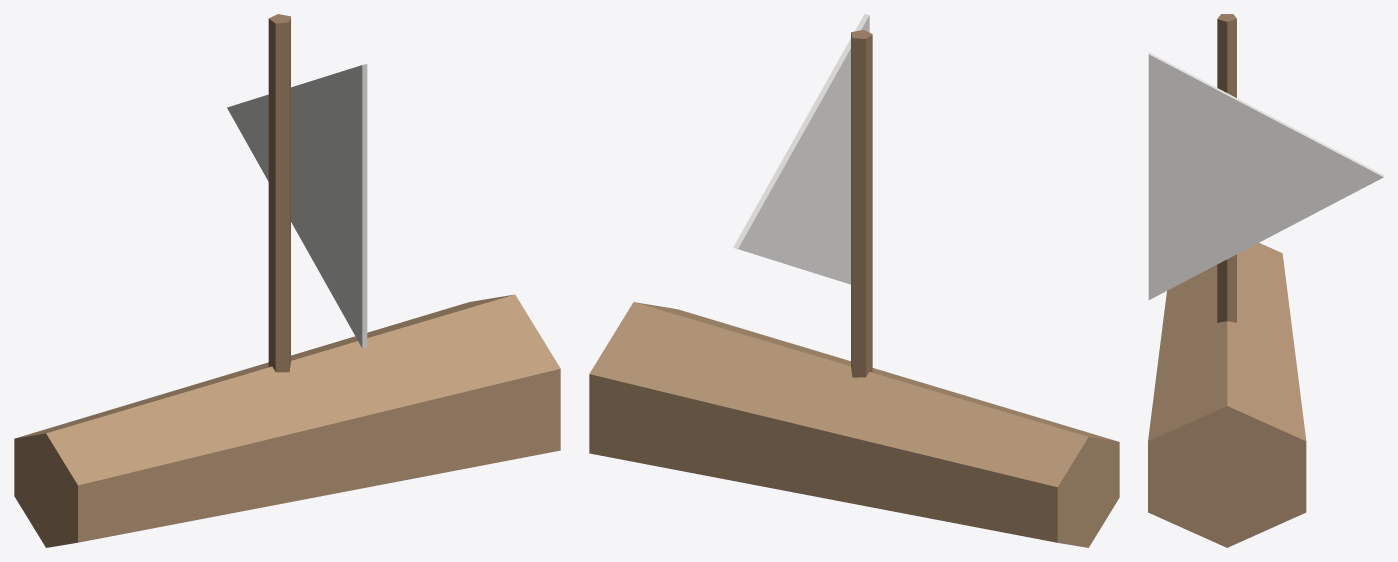
The model's file is barco.glb.
3 views of the same model, side by side, from view 1: azimuth 30°, elevation 25°; view 2: azimuth 150°, elevation 25°; view 3: azimuth 270°, elevation 25° (orthographic). The views are drawn at different scales.
Visible parts, largest first — view 1: barco; view 2: barco; view 3: barco.
Boxes of the visible parts, <box> form: barco: <box>14,14,560,547</box>; barco: <box>589,14,1119,547</box>; barco: <box>1148,14,1383,547</box>.
Bounding box in the file's own units: 1.8 × 1.82 × 0.9031.
